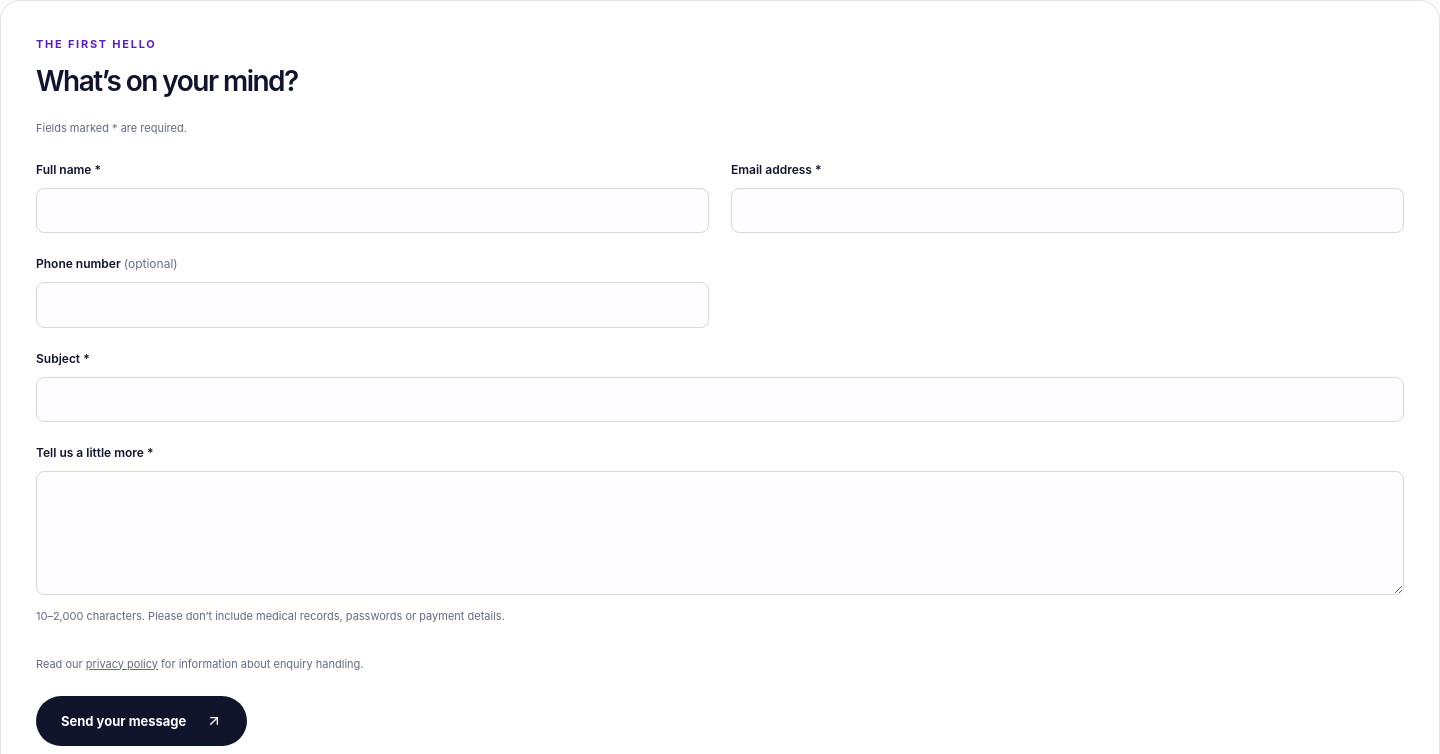
Test: shows accessible validation errors without sending
The image size is (1440, 754).
What coordinates should you click on to do the following:
click the button "Send your message"
I would click on:
 (142, 721)
Its box is [36, 696, 247, 746].
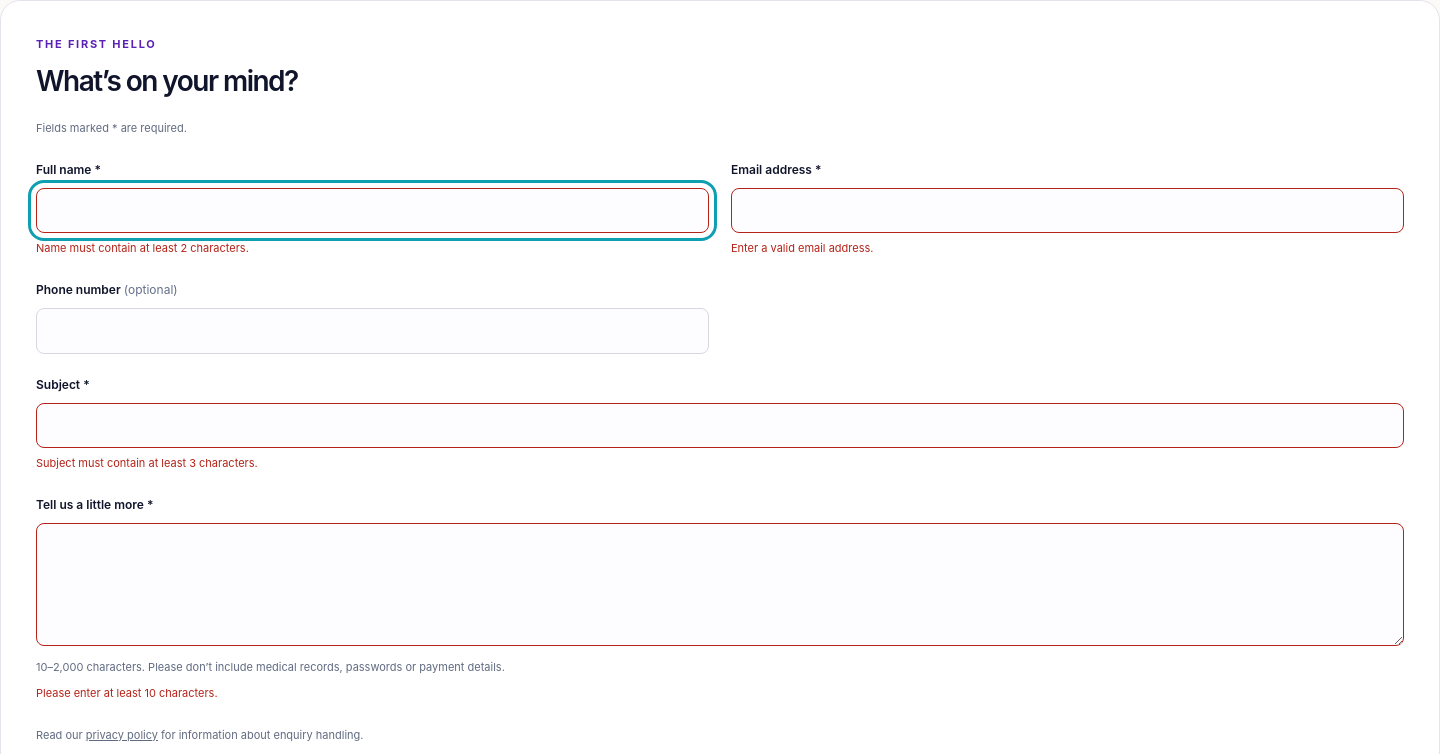
Now the text "Enter a valid email address." is shown, box [731, 241, 873, 255]
